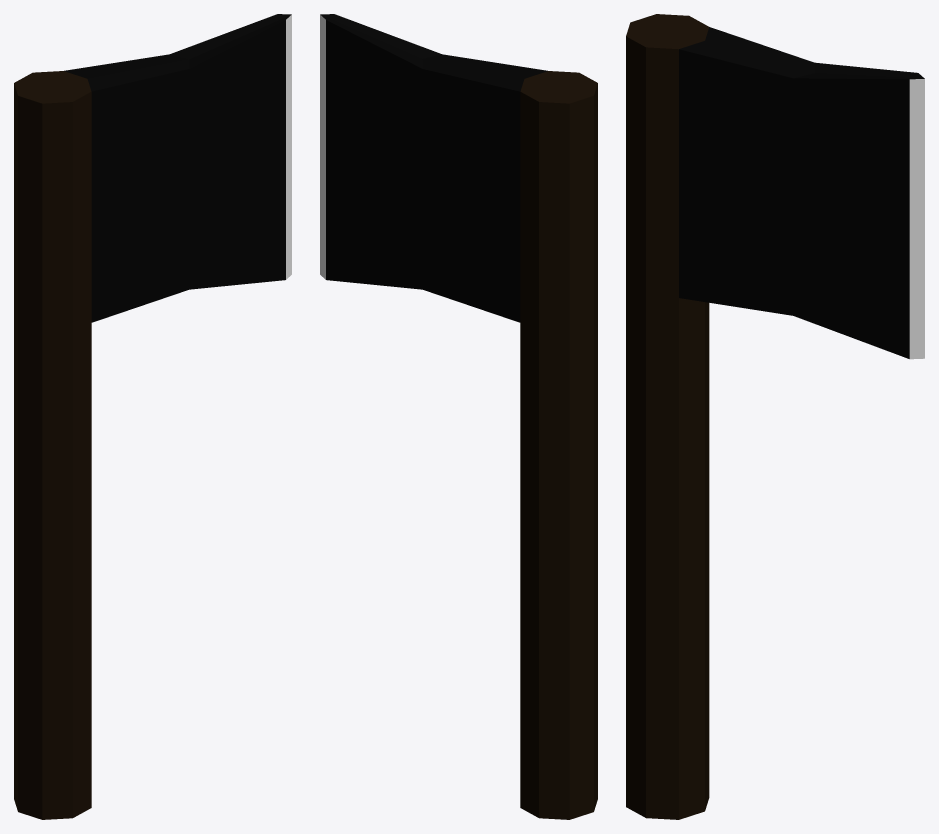
The model's file is Axe.fbx.
The picture shows the model from 3 angles, left to right: view 1: azimuth 30°, elevation 25°; view 2: azimuth 150°, elevation 25°; view 3: azimuth 330°, elevation 25°; orthographic projection. The views are drawn at different scales.
Parts seen in each view (by area): view 1: Cylinder; view 2: Cylinder; view 3: Cylinder.
Boxes of the visible parts, <box> form: Cylinder: <box>14,14,291,819</box>; Cylinder: <box>320,14,597,819</box>; Cylinder: <box>626,14,924,819</box>.
Size of the model in its own units: 789 by 2011 by 200.
